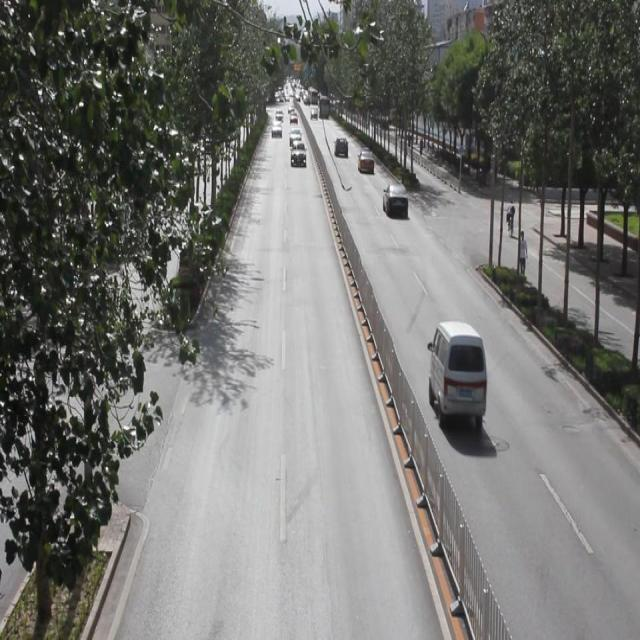car: (382, 180, 408, 218), (357, 150, 375, 174), (290, 140, 306, 167), (334, 136, 349, 158), (289, 127, 302, 147)
truck: (428, 320, 486, 425)
